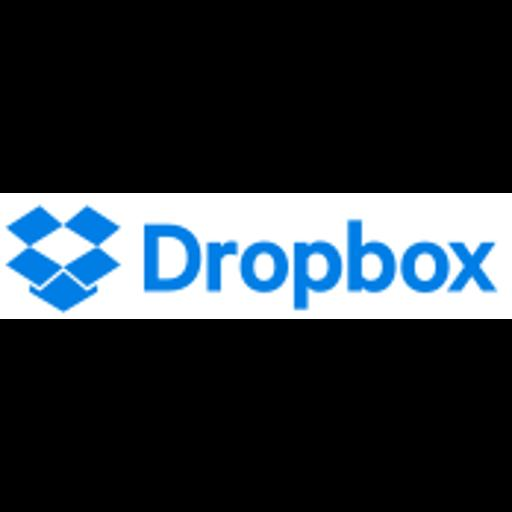Dropbox: (0, 193, 512, 319)
